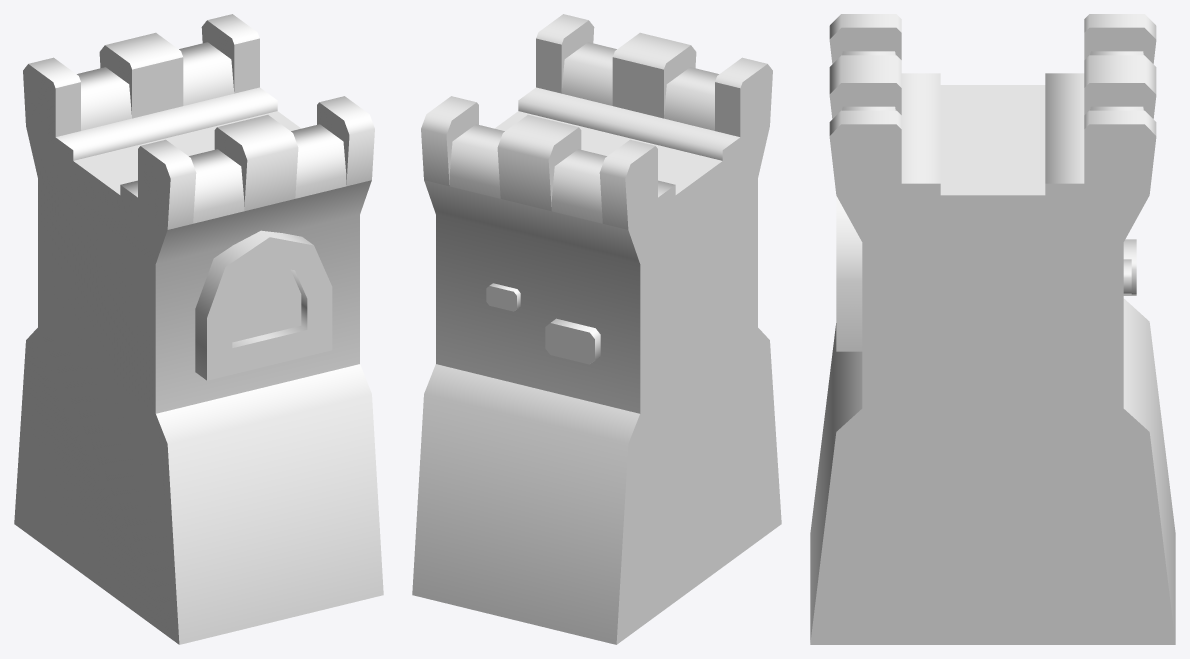
Rendered from castle-window.glb.
3 views of the same model, side by side, from view 1: azimuth 30°, elevation 25°; view 2: azimuth 150°, elevation 25°; view 3: azimuth 270°, elevation 25° (orthographic). The views are drawn at different scales.
Parts seen in each view (by area): view 1: castle-window; view 2: castle-window; view 3: castle-window.
Part boxes in pixels (x1,y1,x2,y2): castle-window: (14, 14, 383, 644); castle-window: (412, 14, 781, 644); castle-window: (810, 14, 1175, 644).
Bounding box in the file's own units: 2 × 4.4 × 2.8.
Materials: 1 (1 with a texture image).
